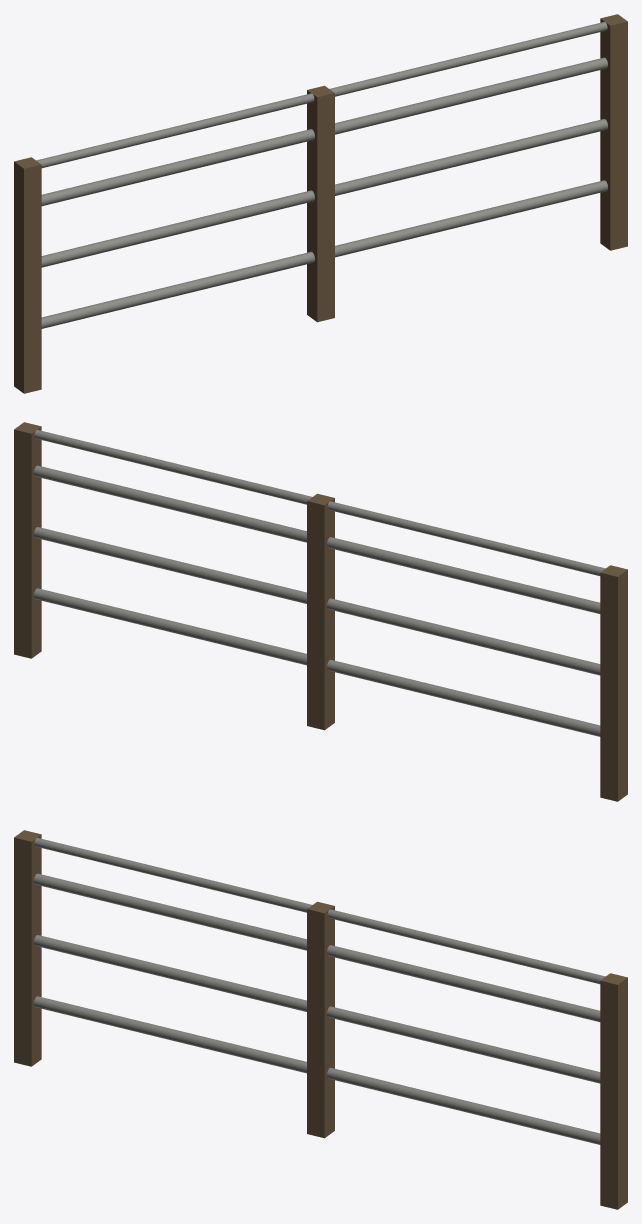
File: f34-wire-stock-fence.glb
The picture shows the model from 3 angles, top to bottom: view 1: azimuth 30°, elevation 25°; view 2: azimuth 150°, elevation 25°; view 3: azimuth 330°, elevation 25°; orthographic projection.
Visible parts, largest first — view 1: part3, part5, part4, part0, part1, part2, part6; view 2: part3, part5, part4, part0, part1, part2, part6; view 3: part3, part4, part5, part2, part1, part0, part6.
Part boxes in pixels (x1,y1,x2,y2): part3: (41, 180, 607, 328); part5: (41, 57, 607, 206); part4: (41, 119, 607, 267); part0: (14, 157, 41, 393); part1: (307, 85, 334, 322); part2: (600, 14, 627, 250); part6: (36, 22, 607, 168); part3: (34, 588, 600, 736); part5: (34, 465, 600, 613); part4: (34, 527, 600, 675); part0: (600, 565, 627, 801); part1: (307, 493, 334, 730); part2: (14, 422, 41, 658); part6: (34, 430, 605, 575); part3: (34, 996, 600, 1144); part4: (34, 935, 600, 1083); part5: (34, 873, 600, 1022); part2: (600, 973, 627, 1209); part1: (307, 901, 334, 1138); part0: (14, 830, 41, 1066); part6: (34, 838, 605, 984).
Size of the model in its own units: 3090 by 1100 by 89.97.
